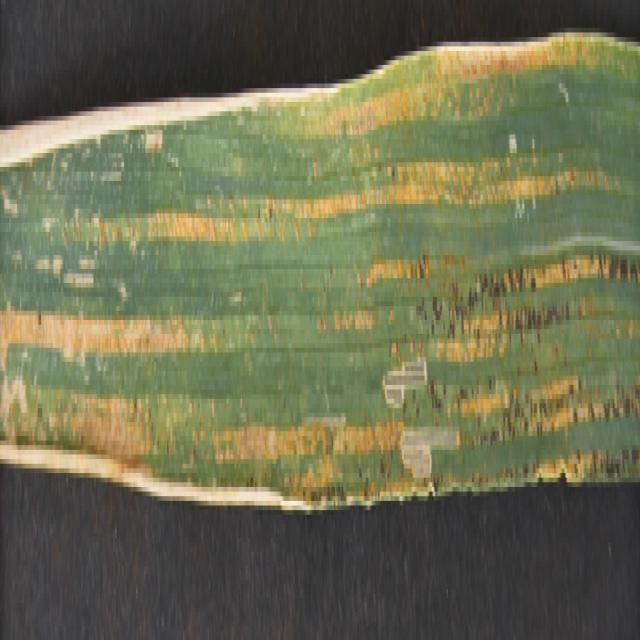leaf rust: (1, 65, 638, 519)
